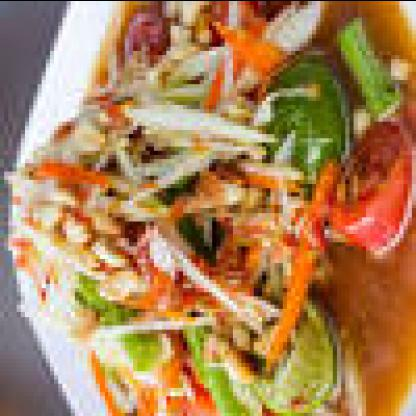Papaya Salad: (16, 8, 412, 415)
